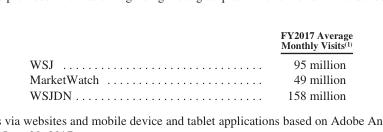table: (28, 28, 351, 101)
table column: (188, 28, 351, 101), (28, 28, 188, 101)
table column header: (28, 28, 351, 53)
table row: (28, 28, 351, 53), (28, 53, 351, 71), (28, 71, 351, 86), (28, 86, 351, 101)
